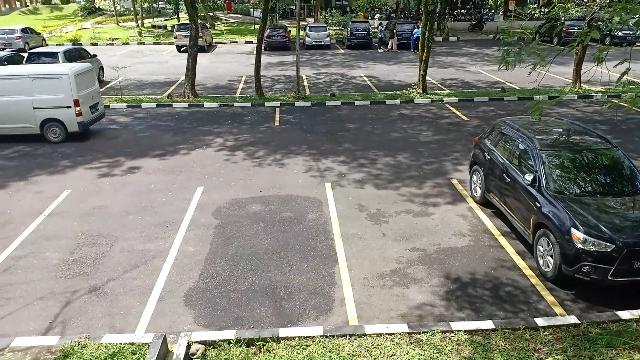empty: (175, 182, 348, 332), (10, 191, 188, 335), (336, 180, 492, 324), (274, 100, 464, 124), (104, 73, 184, 97), (174, 73, 246, 97), (238, 74, 310, 96), (304, 74, 378, 94), (432, 70, 498, 92), (371, 72, 432, 94), (210, 38, 256, 54)
occupied: (466, 128, 640, 312), (168, 26, 214, 54), (339, 26, 385, 52), (300, 26, 342, 54), (255, 27, 297, 53)
